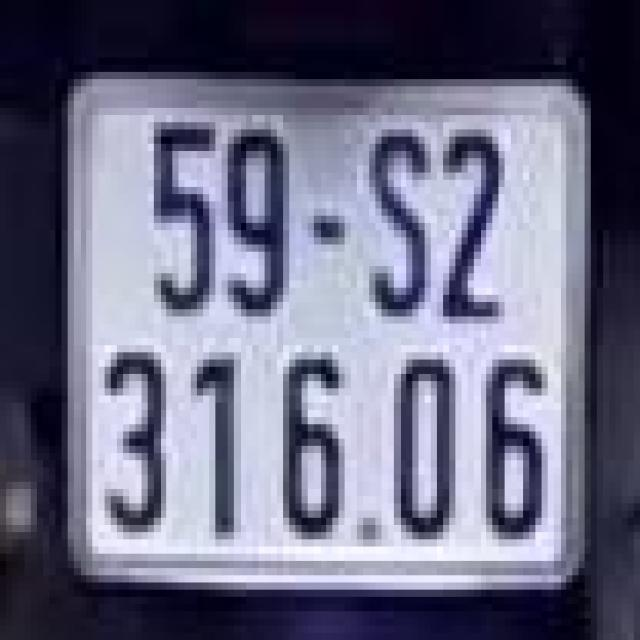0: (384, 334, 470, 543)
1: (182, 341, 256, 543)
2: (437, 126, 511, 327)
3: (96, 331, 170, 539)
5: (142, 108, 222, 316)
6: (477, 334, 551, 558), (271, 345, 351, 547)
9: (222, 119, 296, 334)
S: (366, 119, 434, 327)
